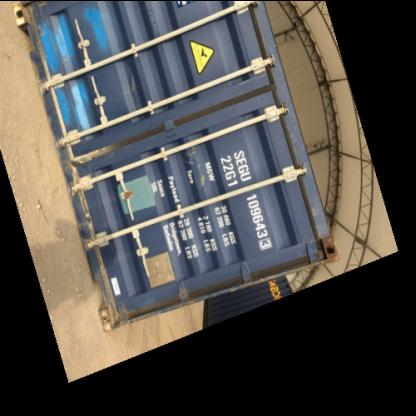Damage: (66, 136, 124, 186), (76, 190, 100, 258), (102, 254, 124, 324), (25, 5, 47, 60)
